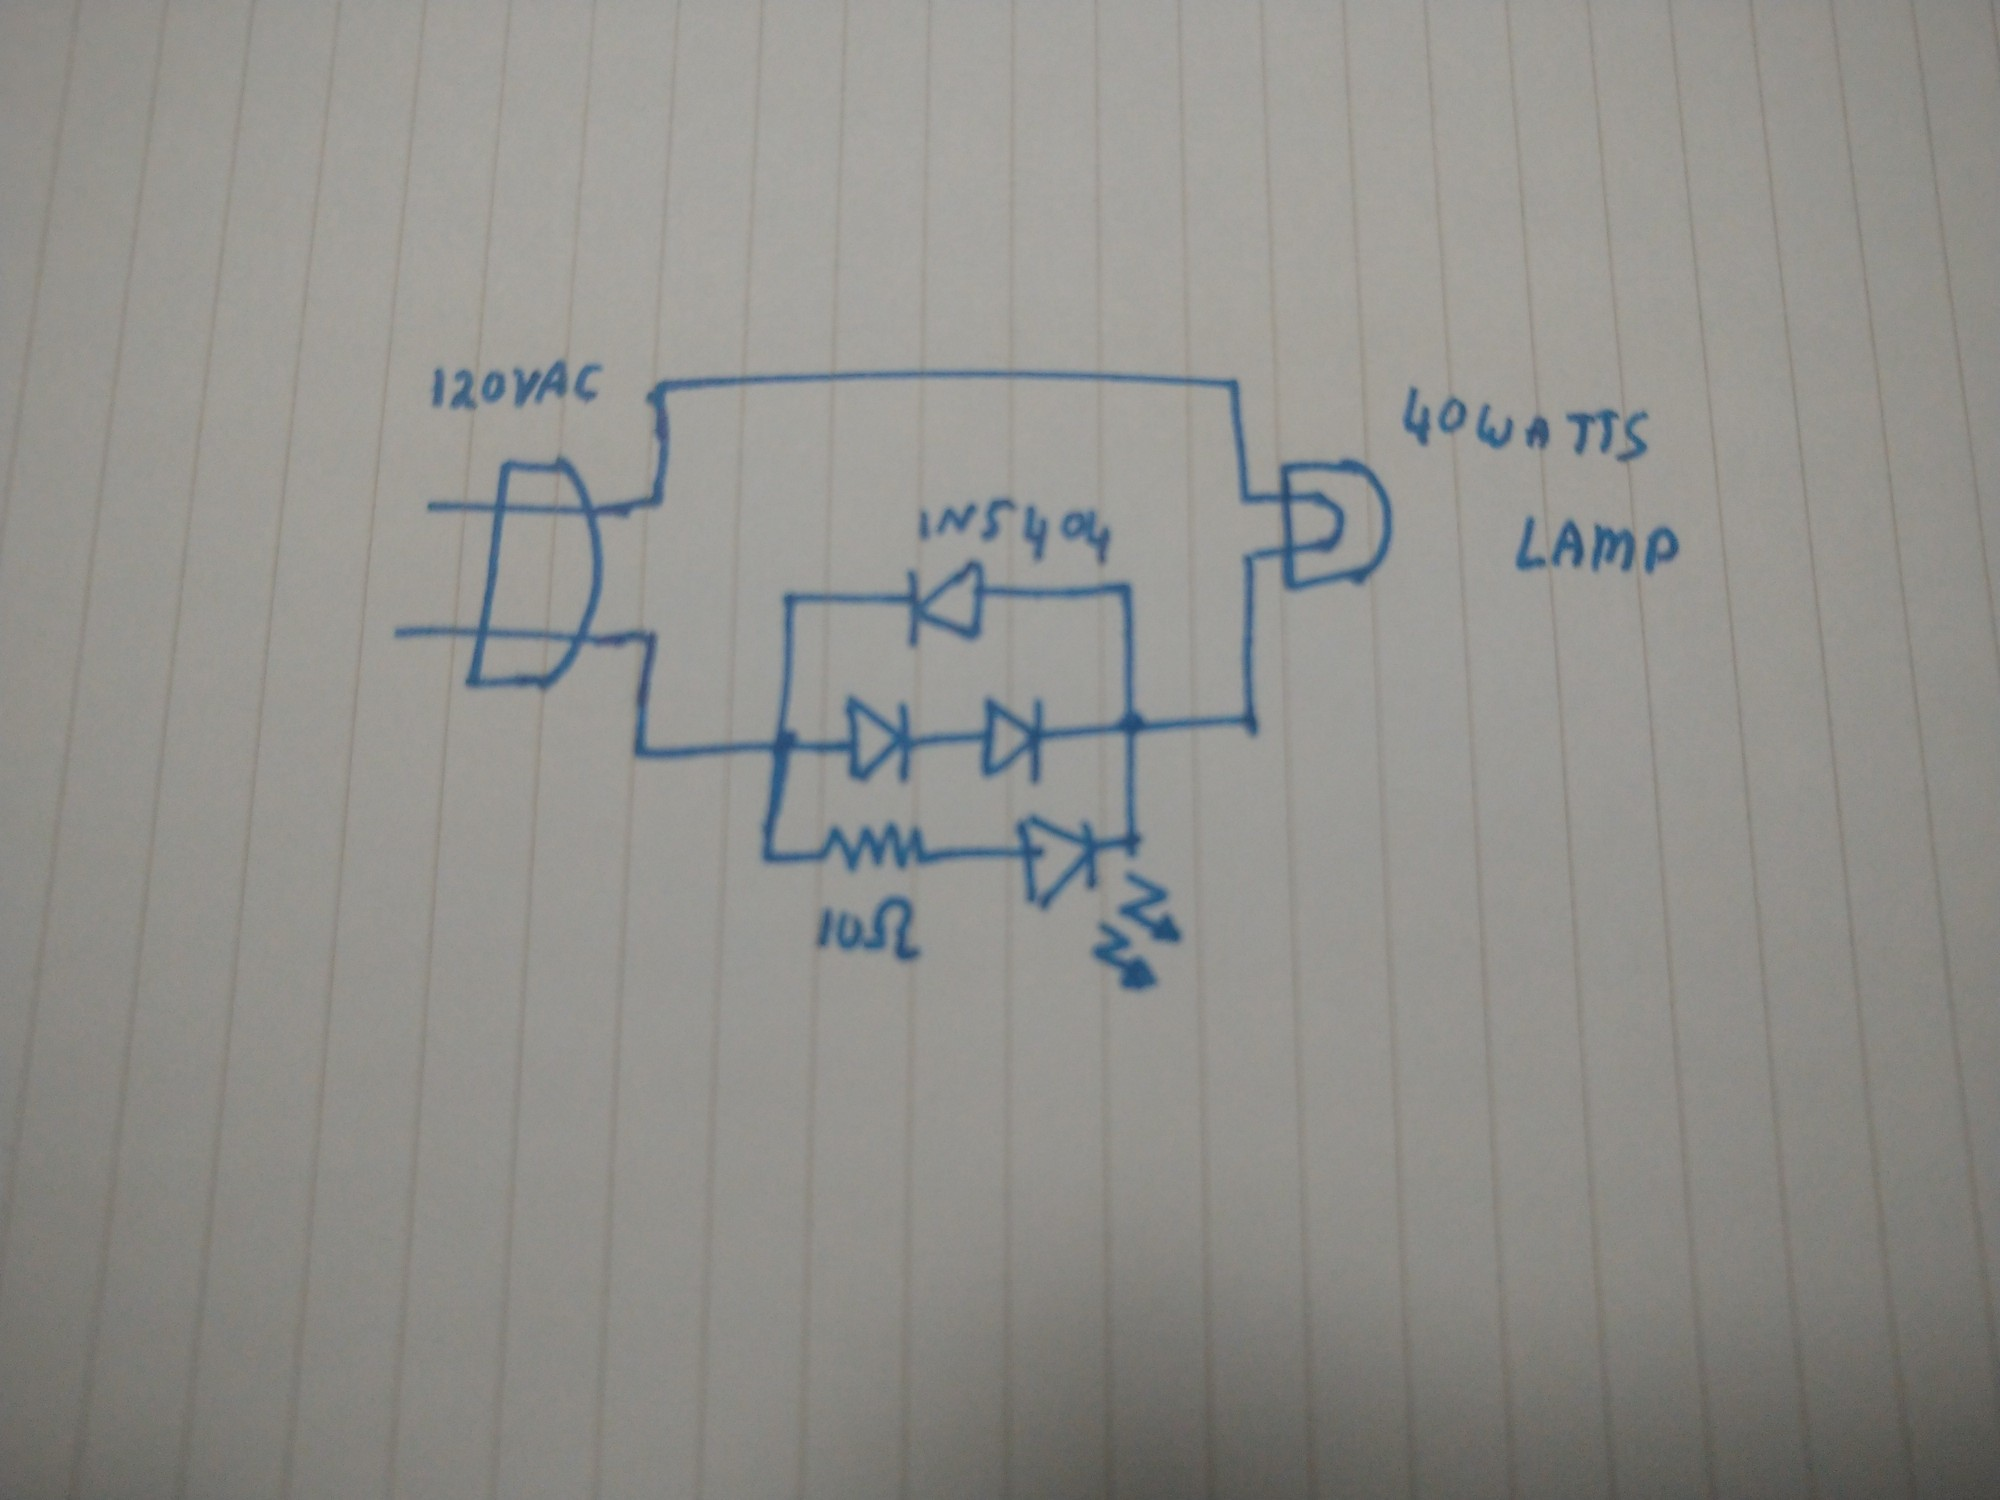diode: (898, 555, 995, 654), (836, 690, 928, 786), (972, 685, 1054, 785)
diode.light_emitting: (1009, 805, 1187, 994)
junction: (1106, 704, 1159, 748), (1227, 700, 1277, 745), (757, 726, 805, 766), (639, 366, 683, 407), (628, 618, 668, 655), (1109, 570, 1150, 607), (620, 734, 657, 770), (1217, 366, 1255, 400), (639, 482, 672, 522), (753, 840, 787, 873), (776, 583, 809, 616), (1238, 548, 1263, 574), (1235, 485, 1257, 509)
lamp: (1272, 451, 1405, 600)
resistor: (813, 815, 940, 881)
socket: (455, 451, 609, 703)
terminal: (373, 618, 417, 649), (411, 493, 447, 520)
text: (1391, 377, 1660, 476), (909, 492, 1120, 566), (1506, 507, 1685, 589), (424, 351, 606, 418), (808, 889, 931, 967)
